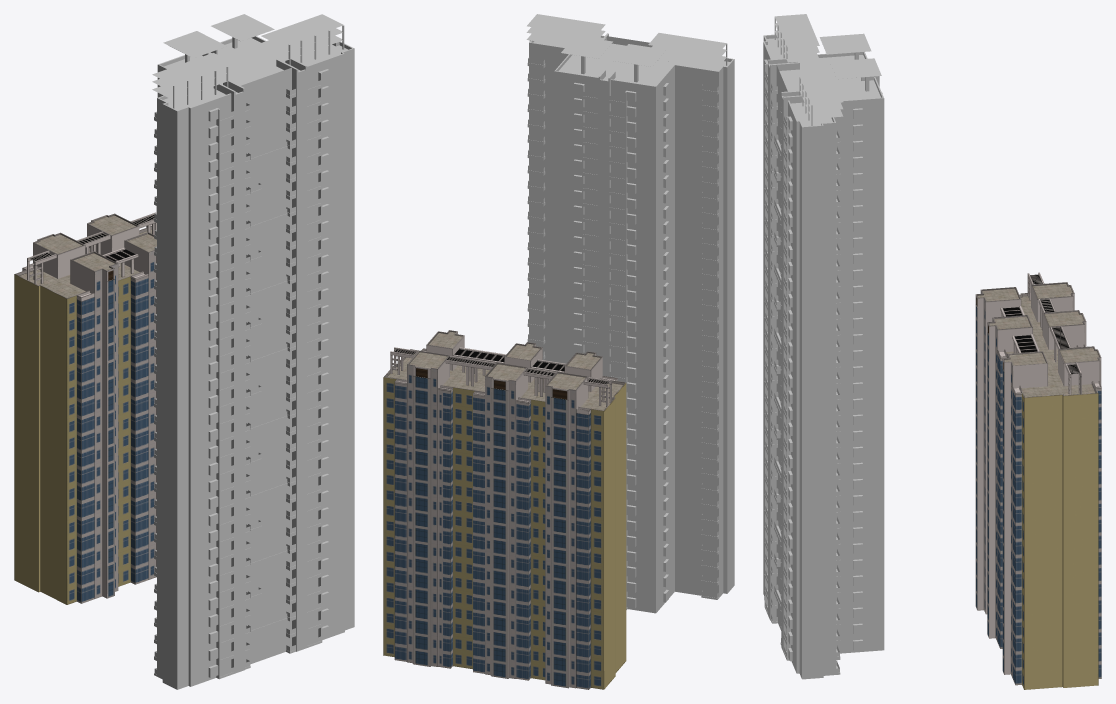
File: xiaoqu6#.FBX
3 renders of one model, left to right at view 1: azimuth 30°, elevation 25°; view 2: azimuth 150°, elevation 25°; view 3: azimuth 270°, elevation 25°, orthographic. The views are drawn at different scales.
Visible parts, largest first — view 1: xiaoqu6#-1, xiaoqu6#-2; view 2: xiaoqu6#-1, xiaoqu6#-2; view 3: xiaoqu6#-1, xiaoqu6#-2.
Part boxes in pixels (<box>): xiaoqu6#-1: <box>152,14,354,689</box>; xiaoqu6#-2: <box>14,206,156,604</box>; xiaoqu6#-1: <box>526,14,734,613</box>; xiaoqu6#-2: <box>383,330,626,689</box>; xiaoqu6#-1: <box>763,14,884,679</box>; xiaoqu6#-2: <box>975,272,1101,689</box>.
Bounding box in the file's own units: 53.9 × 72.09 × 134.
